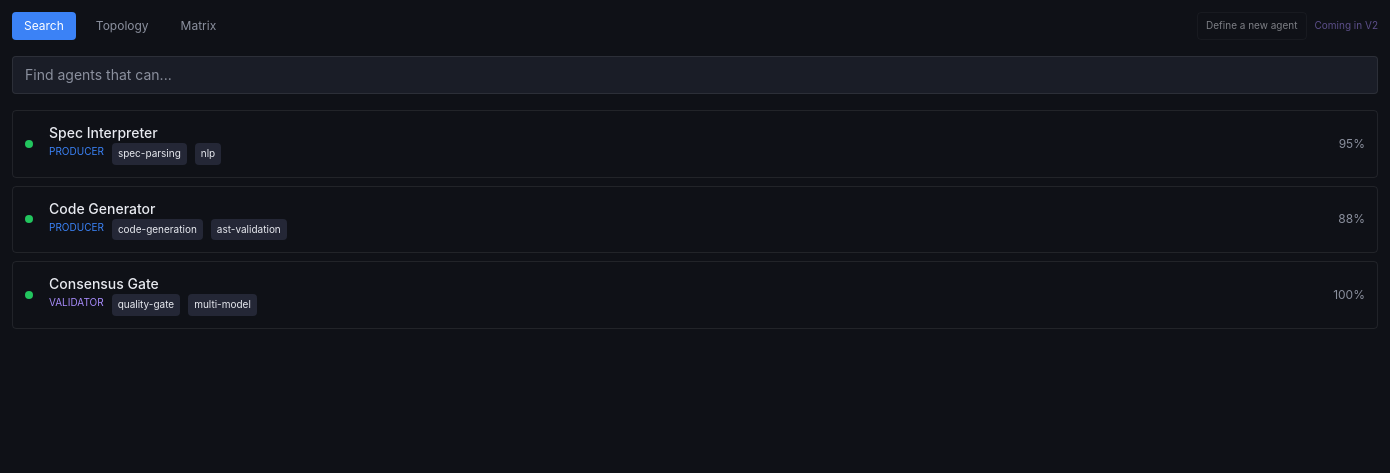
Scenario: AgentRoster (Phase 2) › switches to topology tab
What coordinates should you click on to do the following:
click the button "Topology"
I would click on:
 (122, 26)
Its box is [84,12,161,40].
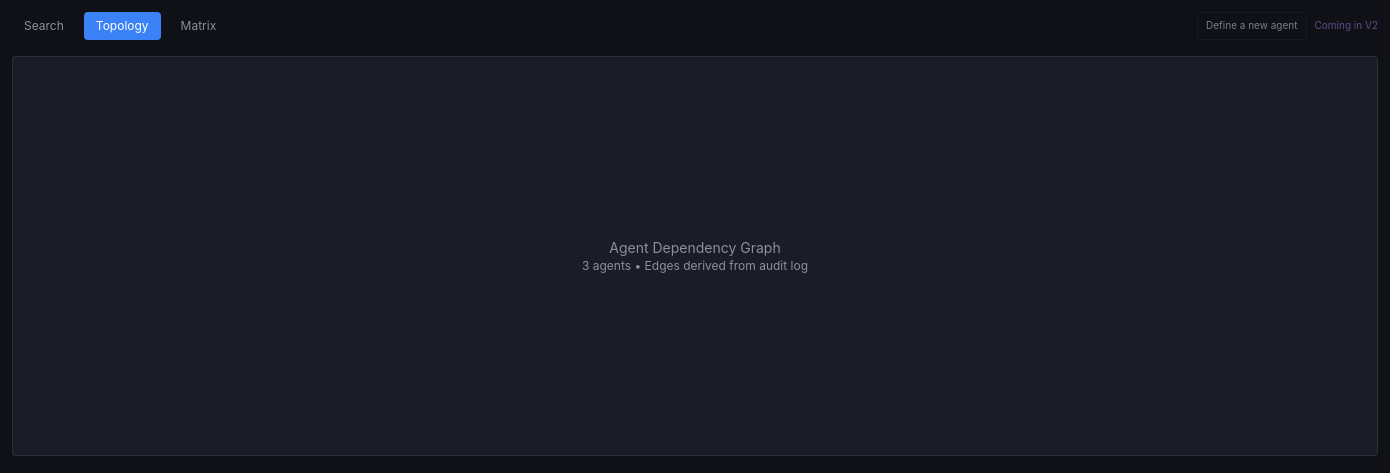
Expected: the element with test id "topology-view" is shown
